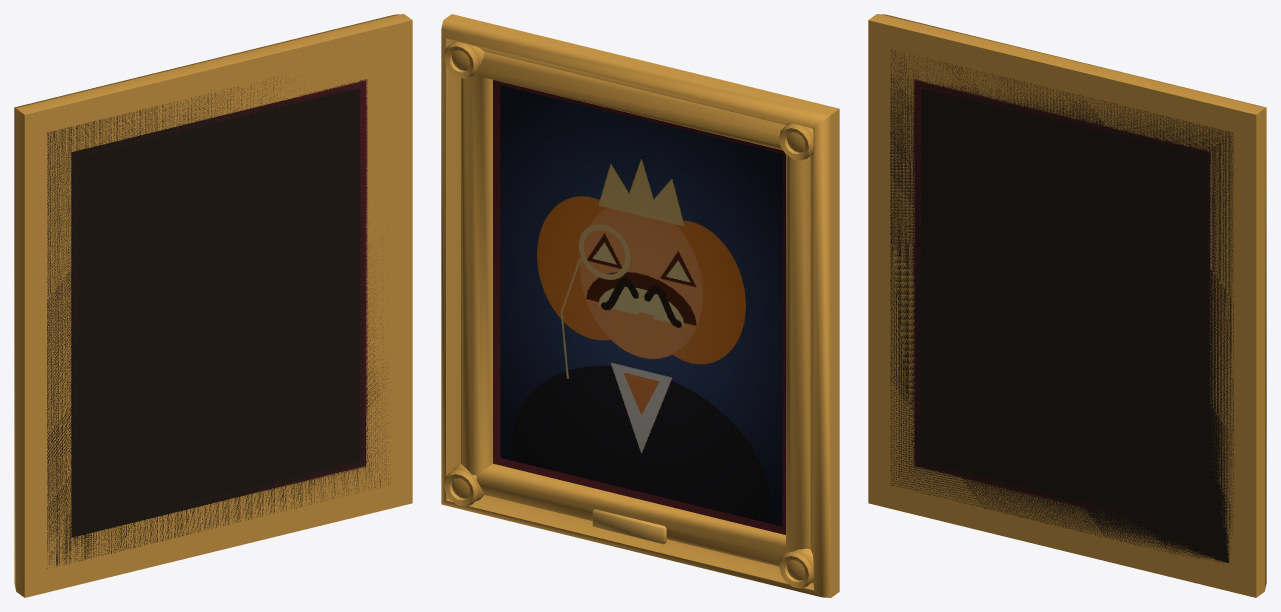
File: manor_portrait_pumpkin.glb
3 views of the same model, side by side, from view 1: azimuth 30°, elevation 25°; view 2: azimuth 150°, elevation 25°; view 3: azimuth 330°, elevation 25° (orthographic).
Visible parts, largest first — view 1: Portrait_Pumpkin; view 2: Portrait_Pumpkin; view 3: Portrait_Pumpkin.
Boxes of the visible parts, x1,y1,x2,y2 form: Portrait_Pumpkin: (14, 14, 412, 597); Portrait_Pumpkin: (441, 14, 839, 597); Portrait_Pumpkin: (868, 14, 1266, 597).
Size of the model in its own units: 0.632 by 0.752 by 0.0537.
Materials: 5 (1 with a texture image).
